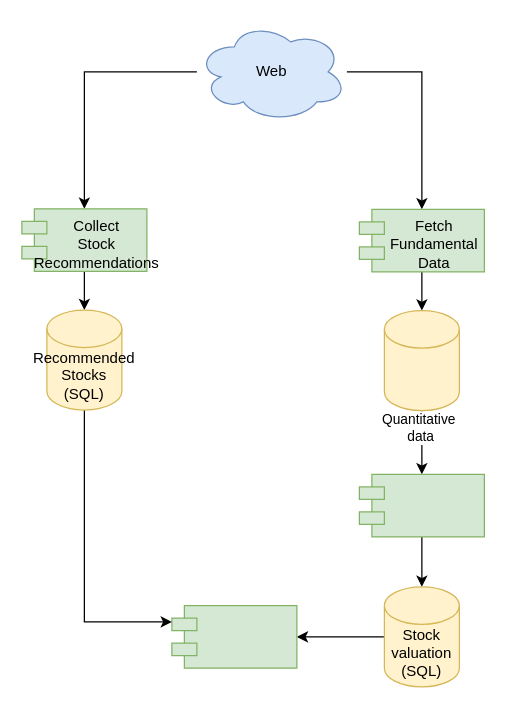
The diagram is 506 pixels wide and 709 high, and some of its shapes have lost their labels. The shapes that lost their labels are listed below. From the top down, each one's centre as x and y in pixels, then its label:
At (x=421, y=360): "Fundamental Data (SQL)".
At (x=421, y=505): "Valuate the Stock".
At (x=234, y=636): "UI".
